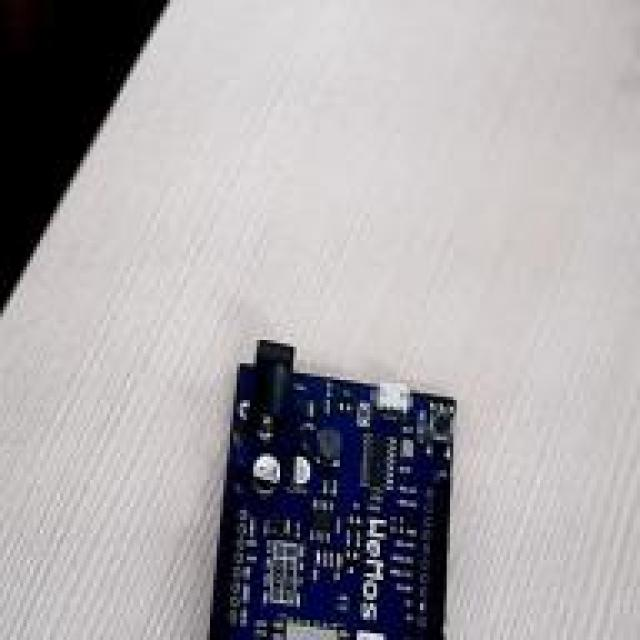Wemos: (211, 341, 454, 638)
